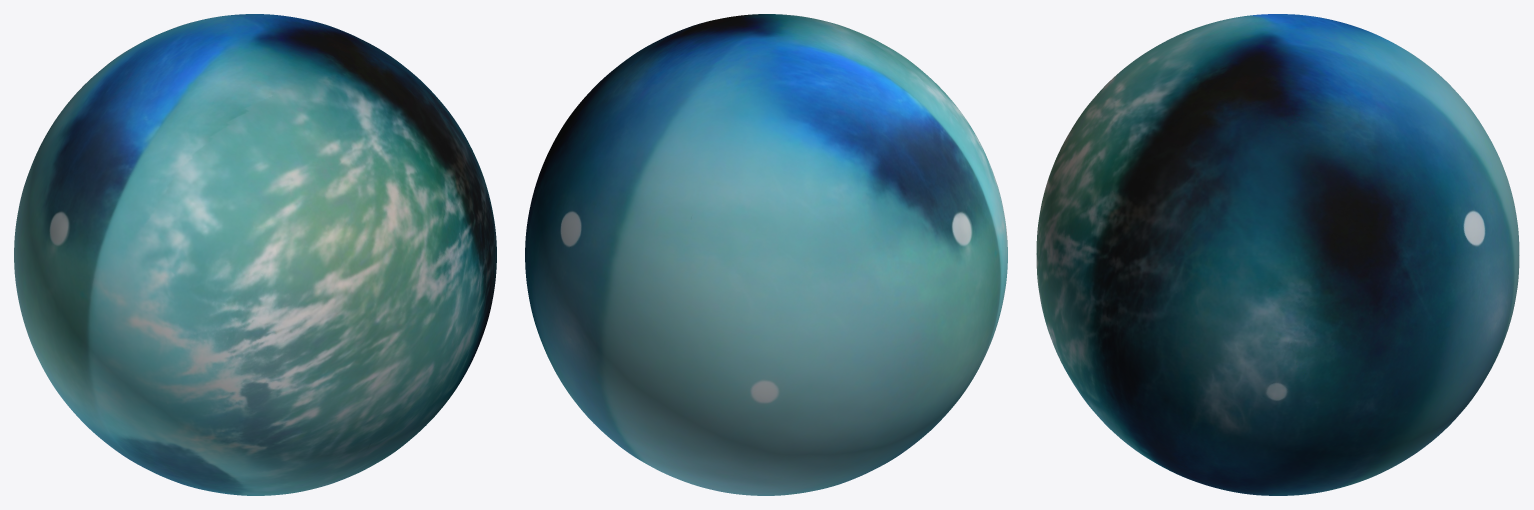
Rendered from kelper_22b.glb.
The picture shows the model from 3 angles, left to right: view 1: azimuth 30°, elevation 25°; view 2: azimuth 150°, elevation 25°; view 3: azimuth 270°, elevation 25°; orthographic projection.
Bounding box in the file's own units: 2 × 2 × 2.
Materials: 1 (1 with a texture image).
